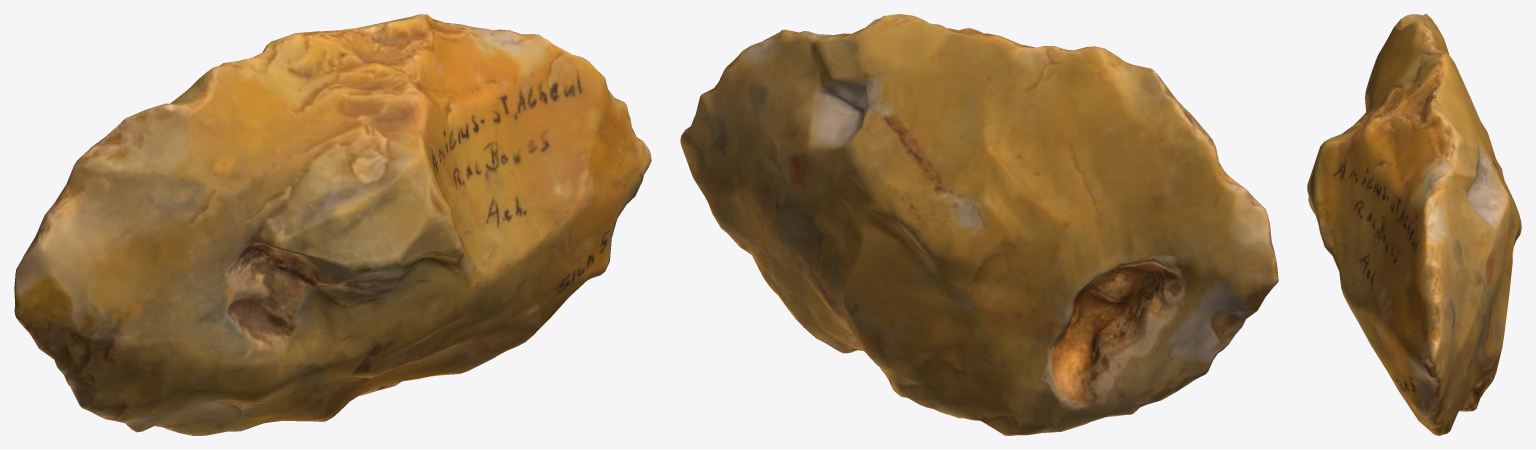
Rendered from thumb.glb.
3 renders of one model, left to right at view 1: azimuth 30°, elevation 25°; view 2: azimuth 150°, elevation 25°; view 3: azimuth 270°, elevation 25°, orthographic. The views are drawn at different scales.
Parts seen in each view (by area): view 1: Object_2; view 2: Object_2; view 3: Object_2.
Boxes of the visible parts, x1,y1,x2,y2 form: Object_2: [14, 14, 651, 435]; Object_2: [680, 14, 1278, 435]; Object_2: [1307, 14, 1521, 435].
Size of the model in its own units: 0.0993 by 0.0603 by 0.0358.
Materials: 1 (1 with a texture image).
